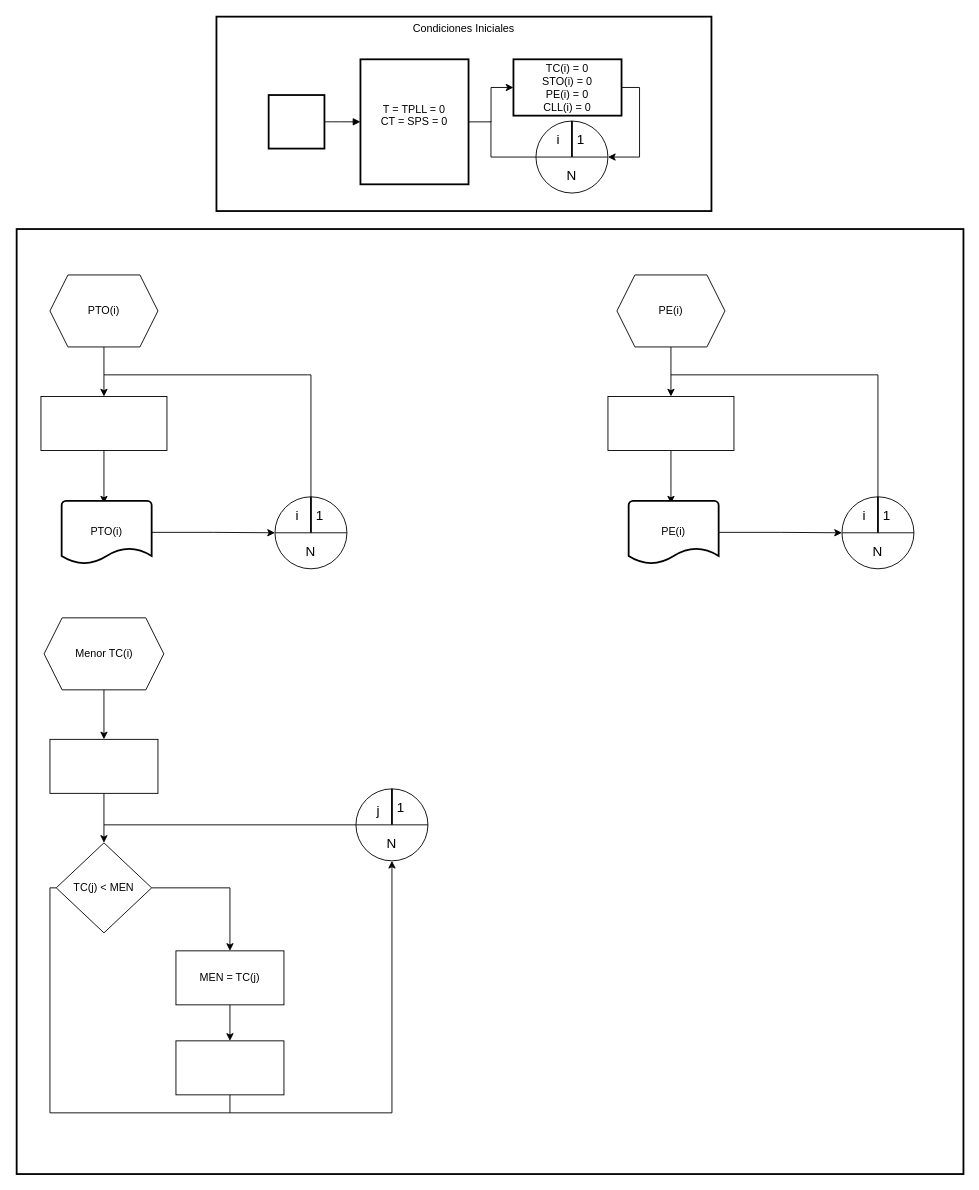
The diagram is 979 pixels wide and 1190 high, and some of its shapes have lost their labels. Here are the shapes that lost their labels. From the top down, the centre of each, then its label:
(296,121): C.I.
(103,423): PTO(i) = STO(i) / TC(i)
(670,423): PE(i) = SE(i) / CLL(i)
(103,765): MEN = HV
(229,1067): i = j
